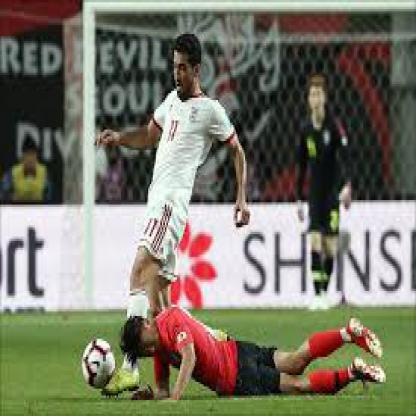Fall_Down: (117, 301, 387, 404)
